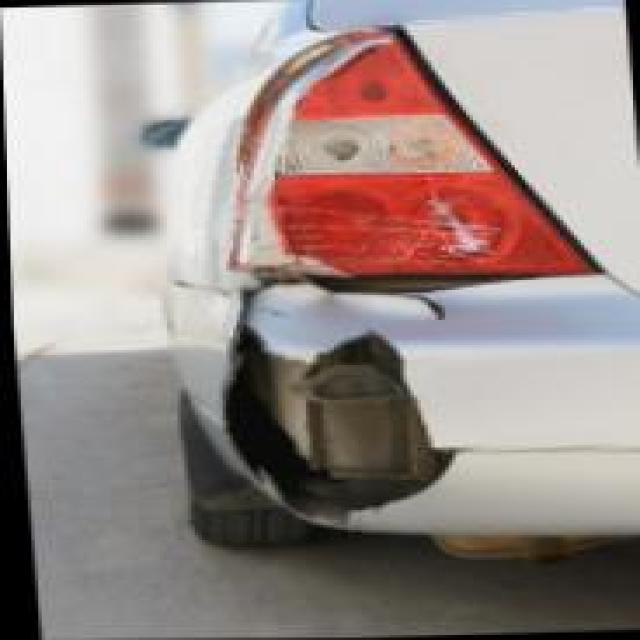Bumper: (177, 282, 581, 509)
